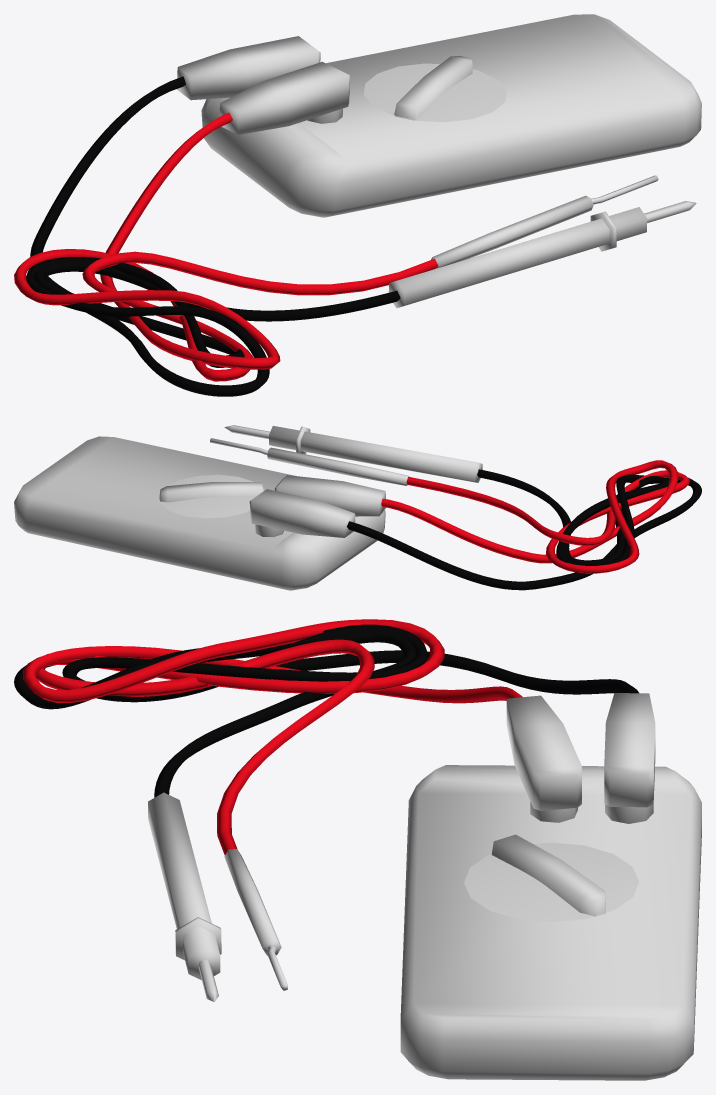
The model's file is MultimeterCables.fbx.
3 views of the same model, one above another, from view 1: azimuth 30°, elevation 25°; view 2: azimuth 150°, elevation 25°; view 3: azimuth 270°, elevation 25° (orthographic). The views are drawn at different scales.
Visible parts, largest first — view 1: tester_low.001, BezierCurve.001, BezierCurve, probe_standart_low.001, selector_wheel_low.001, connector_low.003, connector_low.002, probe_diy_low.001; view 2: tester_low.001, BezierCurve.001, BezierCurve, probe_standart_low.001, connector_low.002, selector_wheel_low.001, connector_low.003, probe_diy_low.001; view 3: tester_low.001, BezierCurve.001, BezierCurve, selector_wheel_low.001, probe_standart_low.001, connector_low.003, connector_low.002, probe_diy_low.001.
Part boxes in pixels (bbox=[...]): tester_low.001: bbox=[201, 14, 701, 217]; BezierCurve.001: bbox=[14, 112, 438, 381]; BezierCurve: bbox=[26, 76, 400, 396]; probe_standart_low.001: bbox=[388, 201, 696, 308]; selector_wheel_low.001: bbox=[364, 55, 506, 122]; connector_low.003: bbox=[219, 61, 349, 134]; connector_low.002: bbox=[176, 36, 320, 100]; probe_diy_low.001: bbox=[431, 175, 658, 268]; tester_low.001: bbox=[14, 436, 385, 590]; BezierCurve.001: bbox=[381, 460, 689, 573]; BezierCurve: bbox=[347, 469, 701, 590]; probe_standart_low.001: bbox=[224, 425, 482, 482]; connector_low.002: bbox=[249, 489, 355, 537]; selector_wheel_low.001: bbox=[158, 474, 263, 518]; connector_low.003: bbox=[274, 475, 385, 516]; probe_diy_low.001: bbox=[210, 438, 409, 485]; tester_low.001: bbox=[400, 765, 701, 1080]; BezierCurve.001: bbox=[23, 619, 522, 855]; BezierCurve: bbox=[14, 624, 638, 797]; selector_wheel_low.001: bbox=[464, 834, 639, 922]; probe_standart_low.001: bbox=[148, 792, 221, 1001]; connector_low.003: bbox=[506, 695, 581, 822]; connector_low.002: bbox=[604, 693, 655, 823]; probe_diy_low.001: bbox=[224, 849, 287, 990].
Size of the model in its own units: 39.24 by 6.19 by 27.11.
